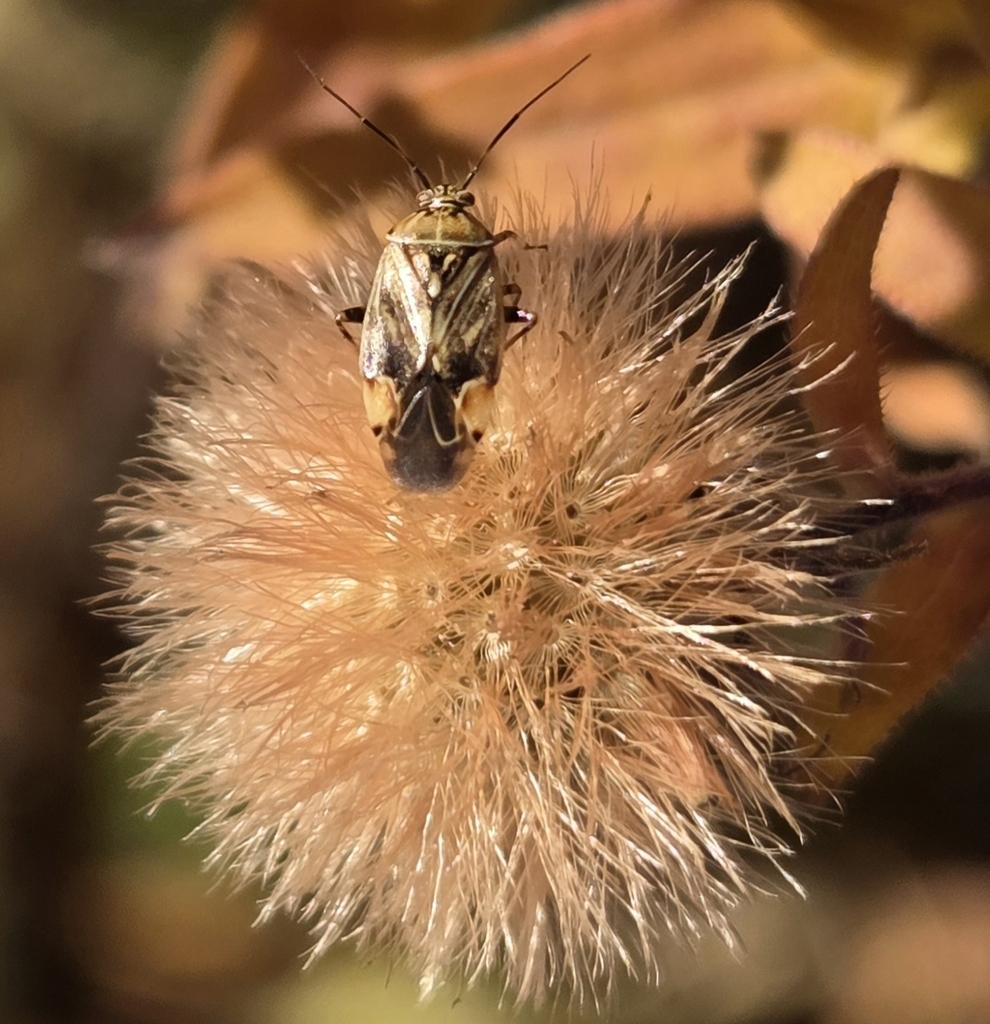plant_bugs: (223, 3, 671, 564)
